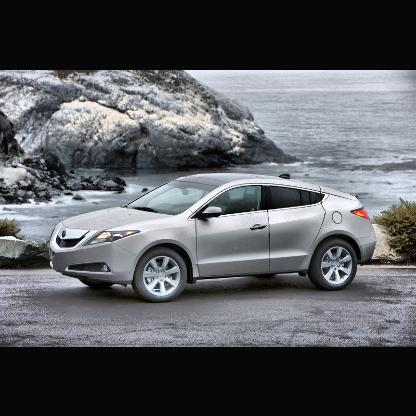Acura ZDX Hatchback 2012: (50, 172, 379, 303)
